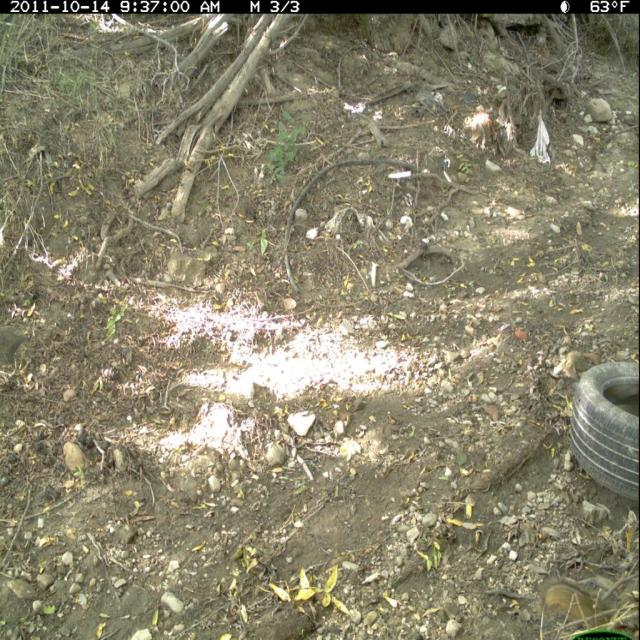squirrel: (533, 559, 637, 638)
